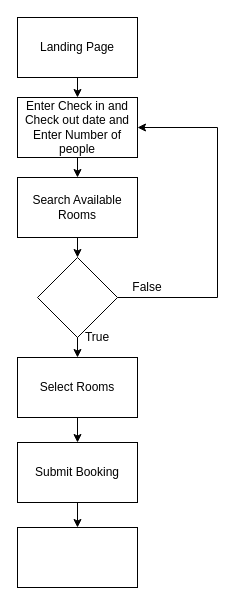
This 243x605 diagram has some shape labels left out. The shapes that lost their labels are listed below. From the top down, each one's box as (x1, y1, x2, y2) in pixels, then its label:
(36, 256, 118, 338): Room Available
(16, 526, 138, 588): Booking confirmation
